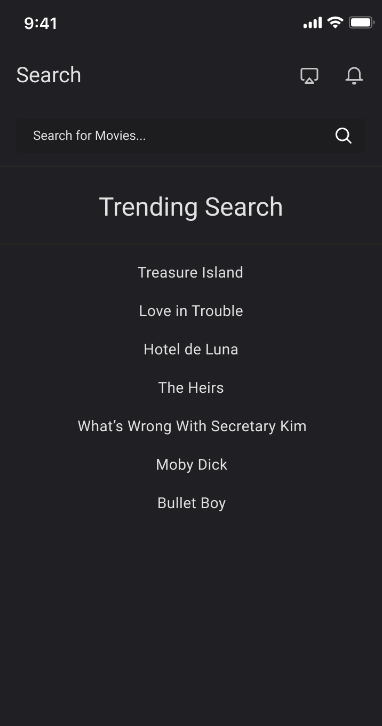IconButton: (292, 61, 327, 88), (341, 62, 365, 88)
